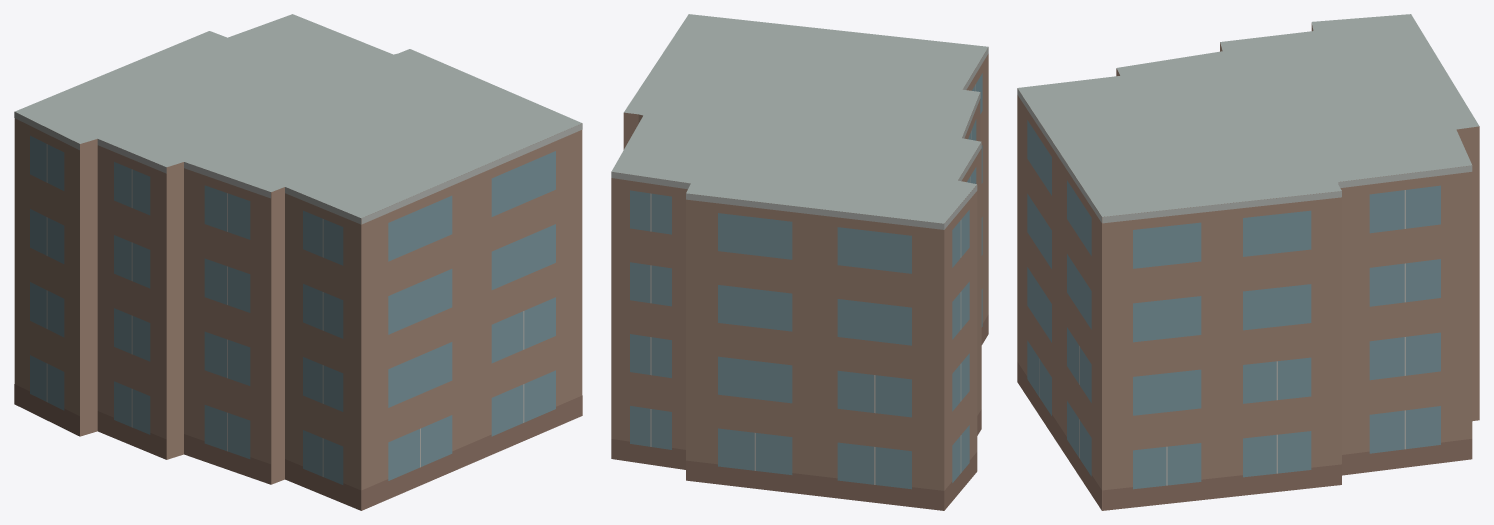
File: survey-upis-33017948.glb
3 views of the same model, side by side, from view 1: azimuth 30°, elevation 25°; view 2: azimuth 150°, elevation 25°; view 3: azimuth 270°, elevation 25° (orthographic). The views are drawn at different scales.
Visible parts, largest first — view 1: survey-upis-33017948.tmp; view 2: survey-upis-33017948.tmp; view 3: survey-upis-33017948.tmp.
Part boxes in pixels (x1=…): survey-upis-33017948.tmp: x1=14, y1=14, x2=582, y2=510; survey-upis-33017948.tmp: x1=611, y1=14, x2=988, y2=510; survey-upis-33017948.tmp: x1=1017, y1=14, x2=1479, y2=510.
Size of the model in its own units: 16.6 by 11.2 by 15.98.
